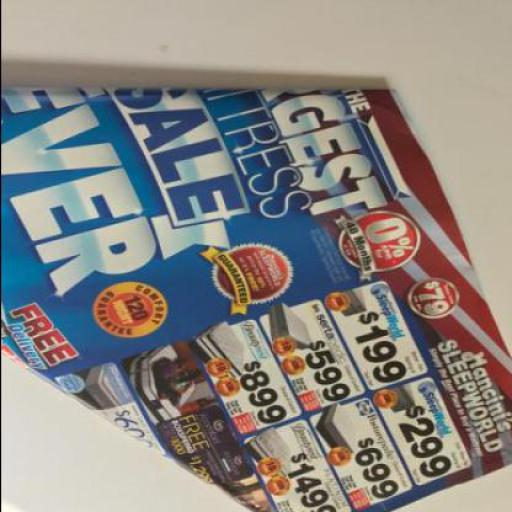paper: (1, 87, 511, 512)
